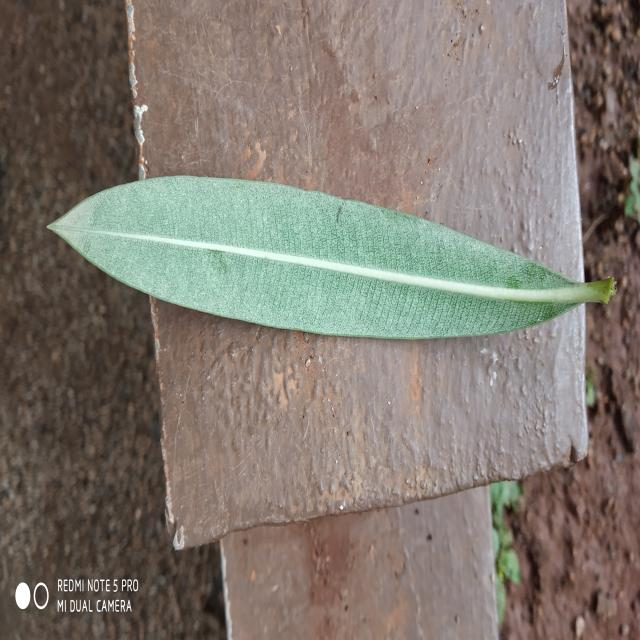ganigale: (50, 176, 615, 340)
